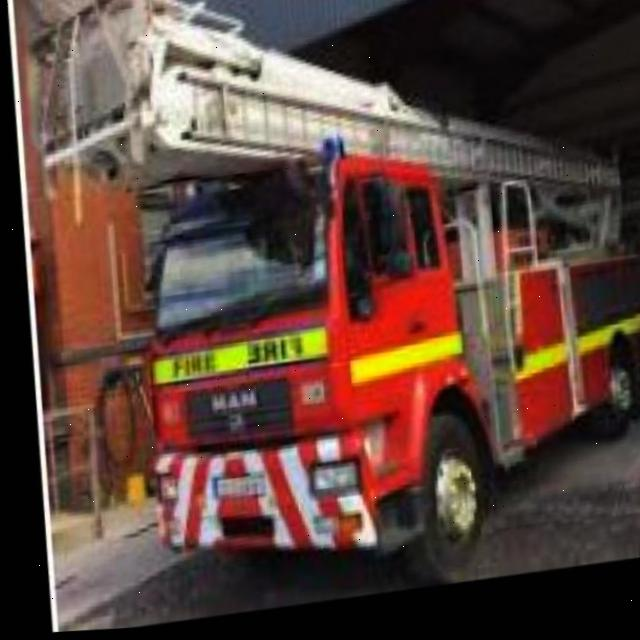emergency: (134, 137, 640, 581)
